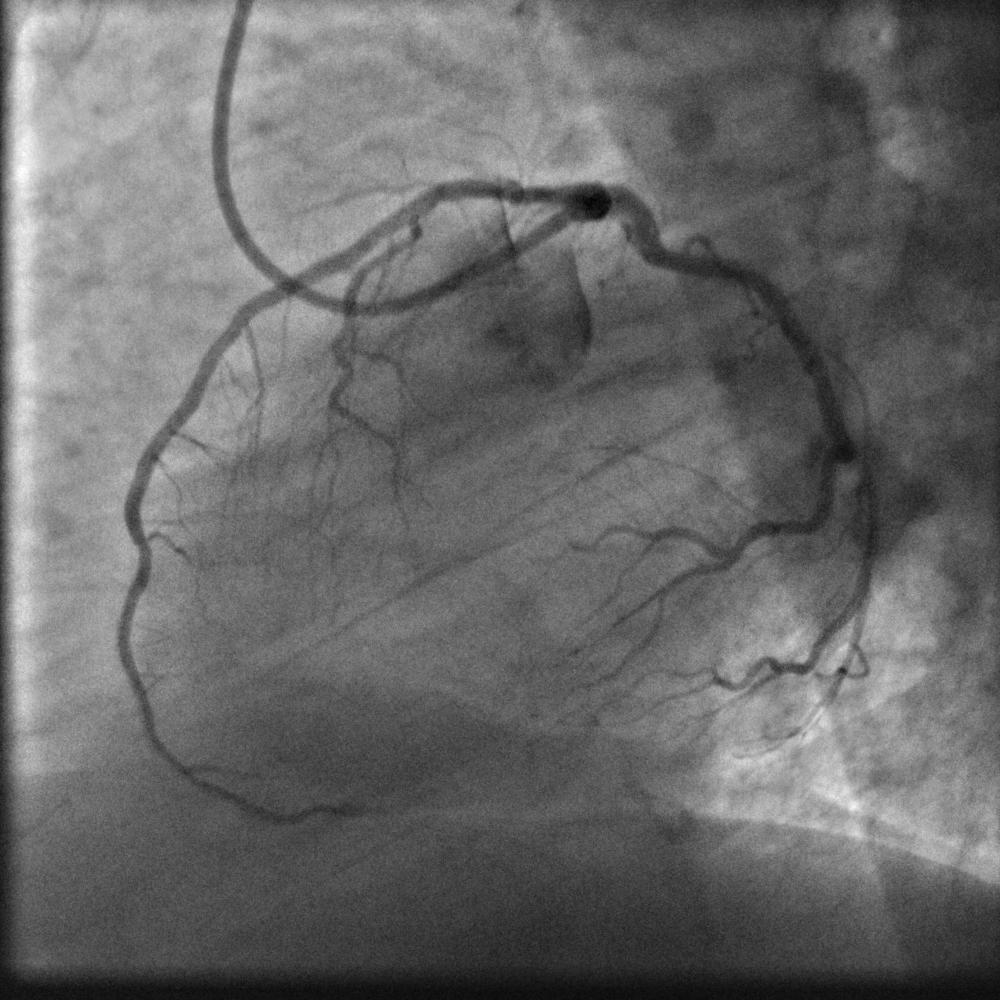Stenosis: (492, 176, 529, 201)
